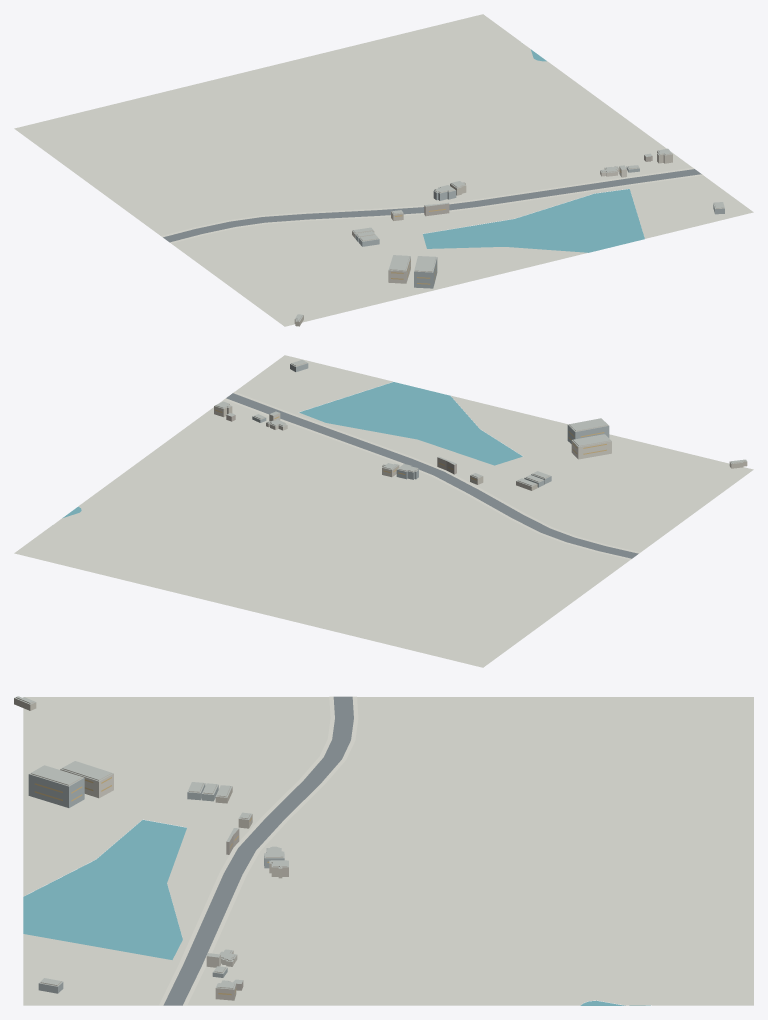
3 views of the same model, one above another, from view 1: azimuth 30°, elevation 25°; view 2: azimuth 150°, elevation 25°; view 3: azimuth 270°, elevation 25° (orthographic). The views are drawn at different scales.
Visible parts, largest first — view 1: city; view 2: city; view 3: city.
Part boxes in pixels (box(x1,y1,x2,y2)): city: box(14, 14, 753, 326); city: box(14, 355, 753, 667); city: box(14, 696, 753, 1005).
Size of the model in its own units: 500 by 17.18 by 506.
